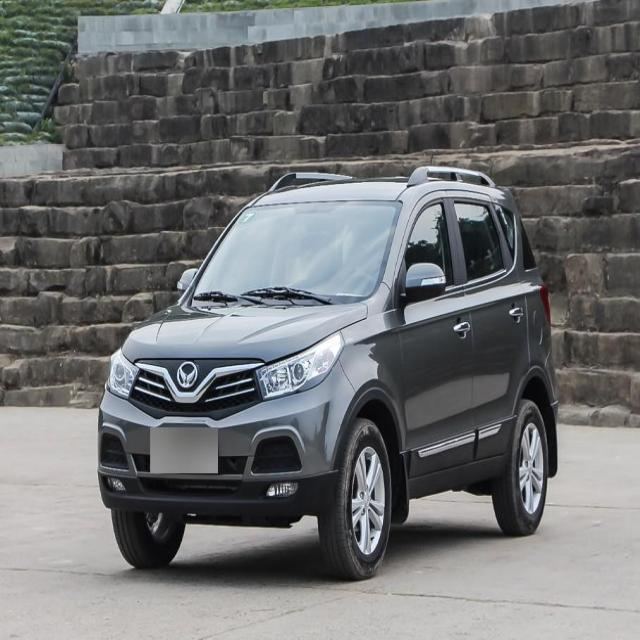back_left_side_light: (538, 279, 552, 331)
door: (453, 197, 529, 478)
front_bumper: (96, 456, 350, 529)
front_glass: (191, 201, 401, 306)
front_left_side_door: (381, 187, 479, 481)
front_left_side_light: (253, 327, 347, 404)
front_left_side_mirror: (400, 260, 448, 306)
front_right_side_light: (105, 345, 142, 405)
front_right_side_mirror: (175, 266, 199, 297)
wheel: (316, 422, 390, 578), (489, 398, 551, 534), (108, 508, 190, 567)
